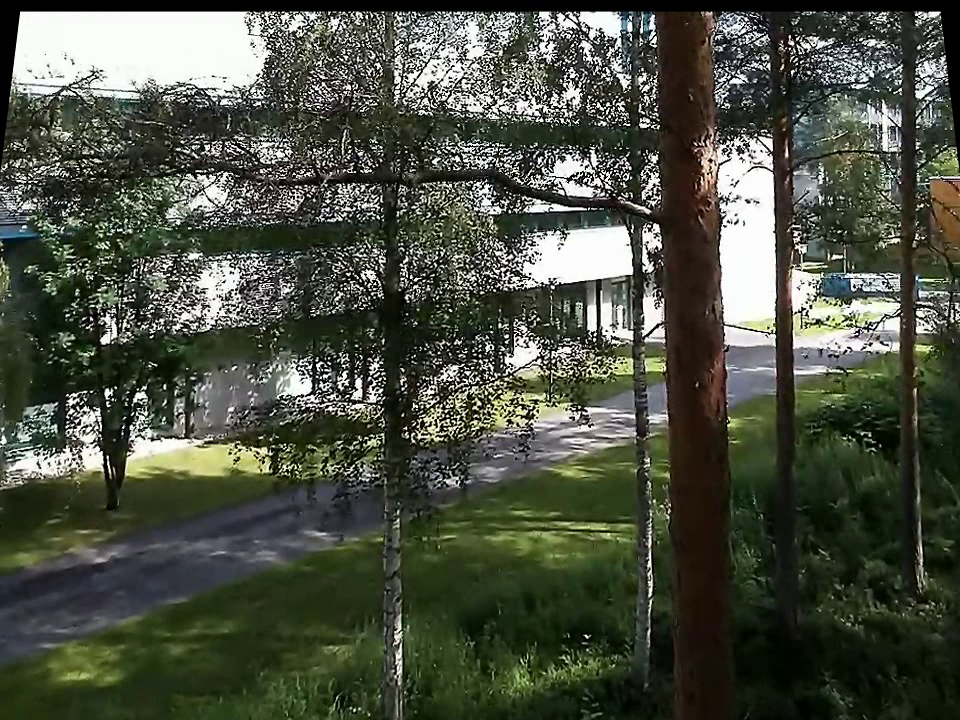branch: (251, 155, 655, 224), (795, 143, 898, 169)
trunk: (648, 14, 754, 710), (890, 62, 937, 606), (766, 132, 811, 617), (619, 142, 659, 679), (379, 395, 411, 713)
